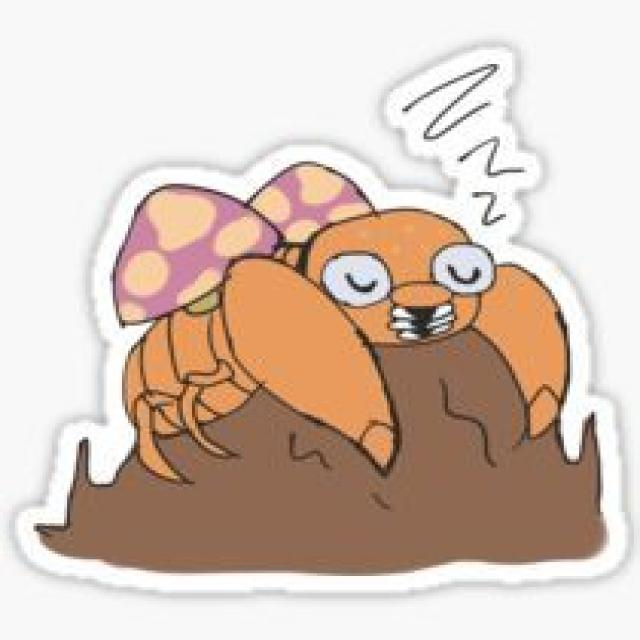Paras: (110, 160, 570, 470)
